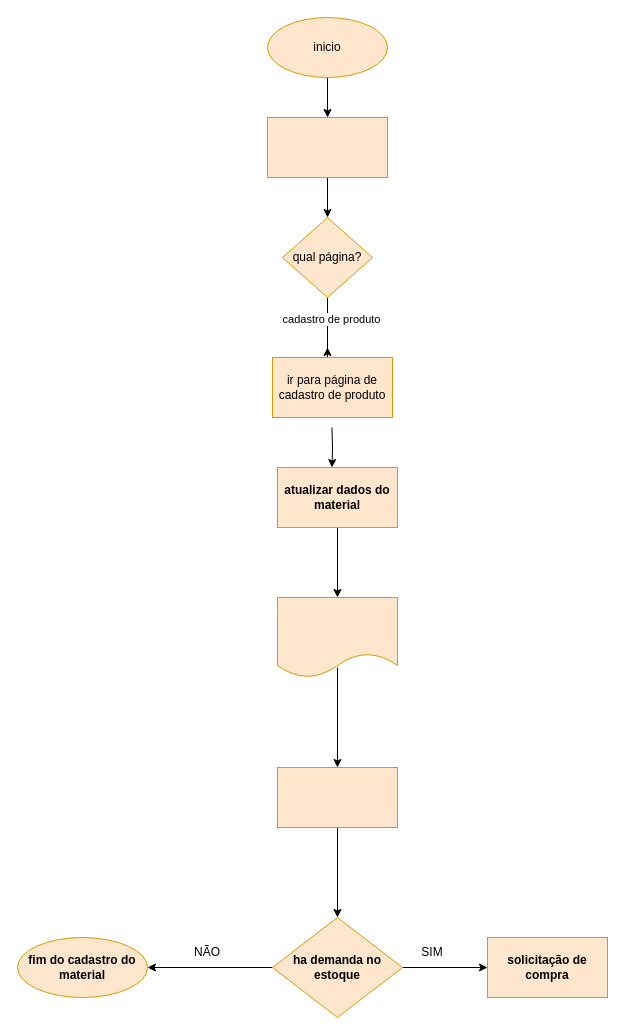
This 625x1035 diagram has some shape labels left out. Here are the shapes that lost their labels. From the top down, the centre of each, then its label:
At point 327,147: "ir para página de menu".
At point 337,637: "verificar material".
At point 337,797: "dizer por qual fornecedor é oferecido".
